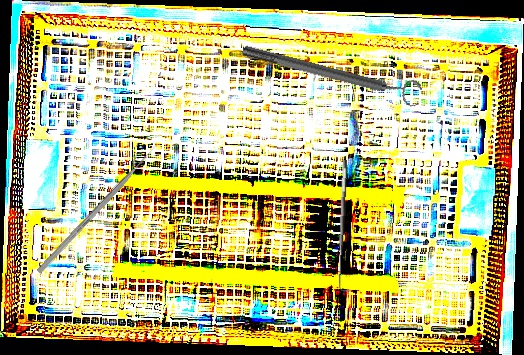Fixation Ring: (239, 34, 424, 111)
Hook Surgical: (334, 159, 358, 293)
Pusher: (36, 143, 159, 275)
